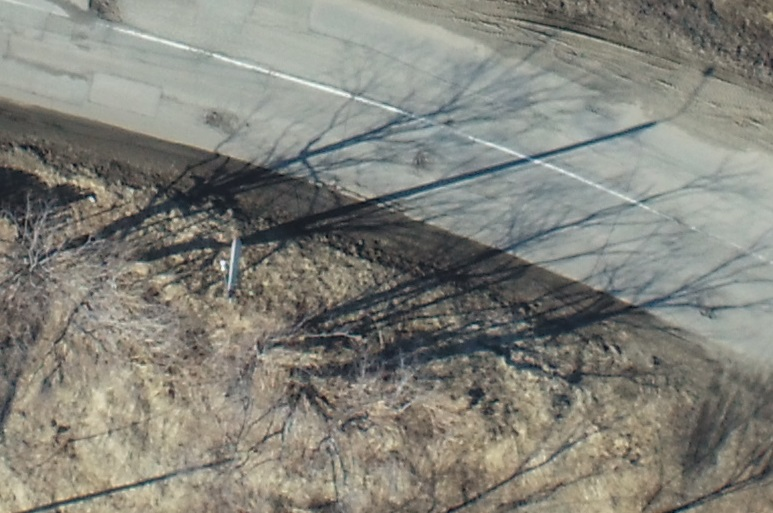opora: (216, 225, 300, 297)
